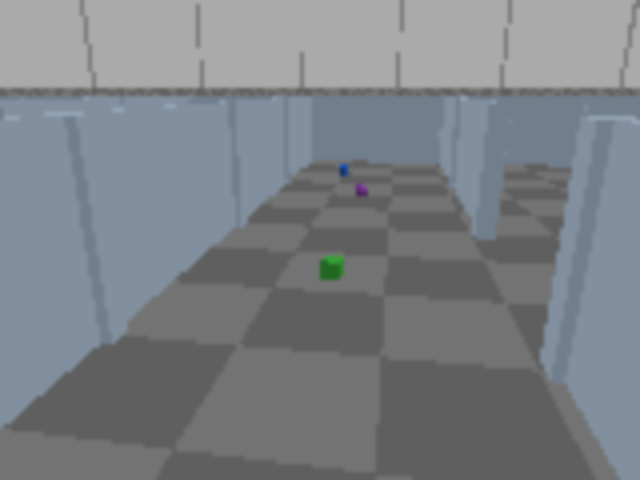person: (630, 0, 638, 187)
puck: (321, 256, 344, 281)
